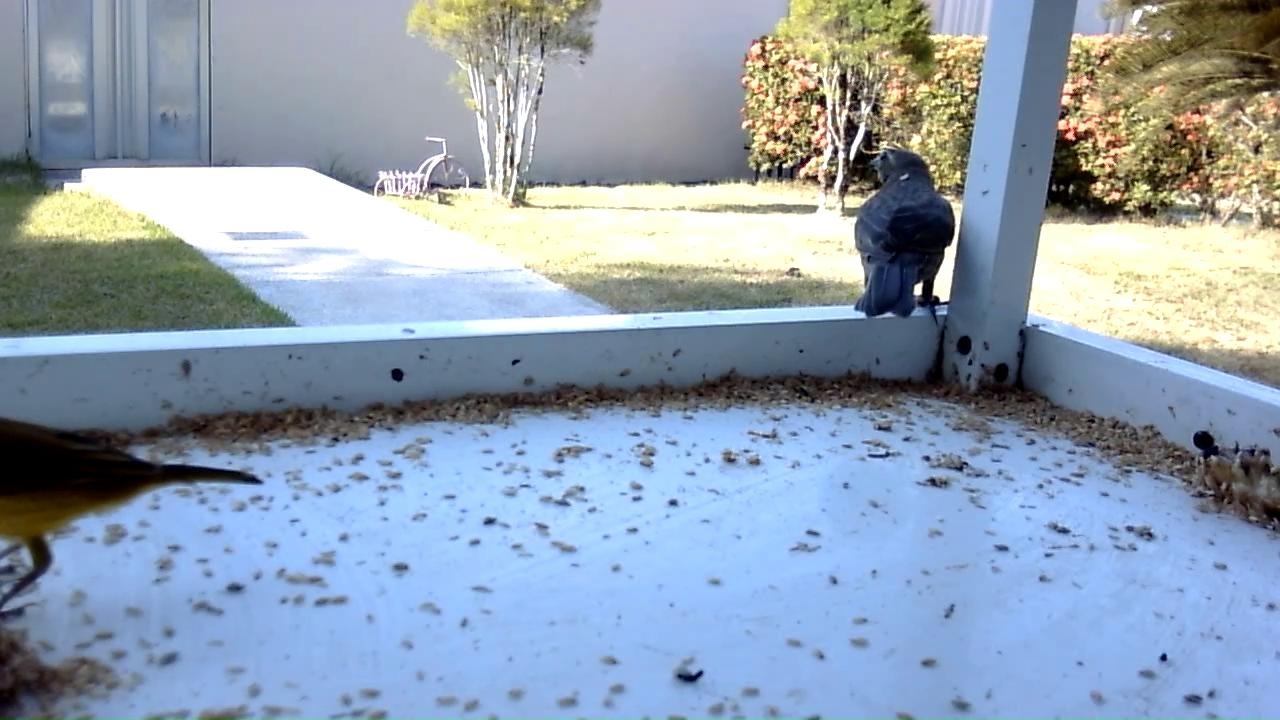canario_do_amazonas: (1, 414, 274, 626)
chupim: (837, 141, 957, 324)
